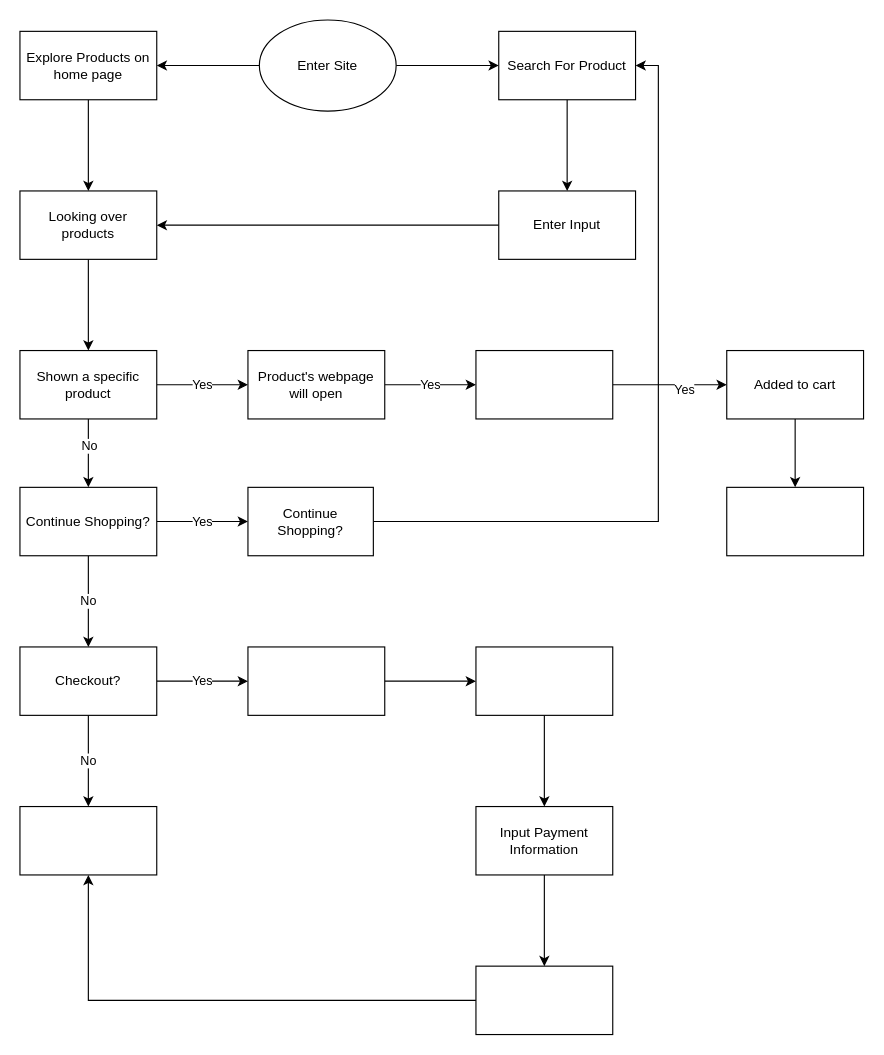
Image size: 884x1055. Some labels were removed from this diagram. The shapes that lost their labels are listed below. From the top down, each one's centre as x and y in pixels, then its label:
At point 544,384: "Option to add to cart".
At point 795,521: "Confirmation".
At point 316,680: "View Cart Screen".
At point 544,680: "View Payment".
At point 88,840: "Leave Site".
At point 544,1000: "Confirmation and Email confirming".
